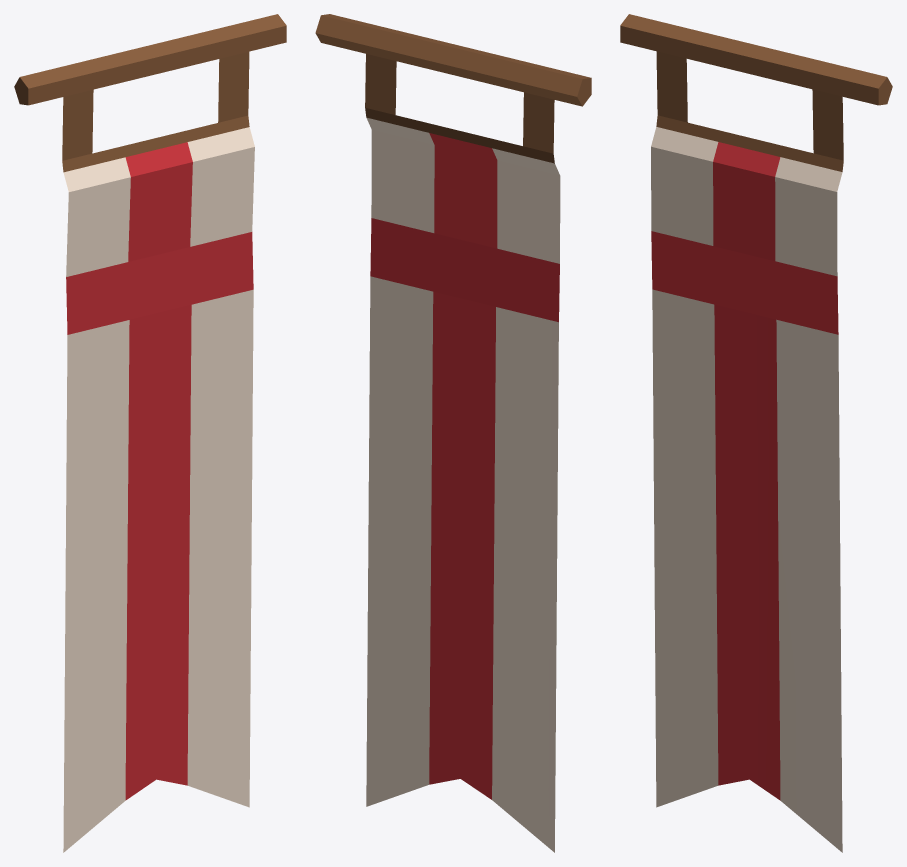
The model's file is flag-medieval-big.glb.
The picture shows the model from 3 angles, left to right: view 1: azimuth 30°, elevation 25°; view 2: azimuth 150°, elevation 25°; view 3: azimuth 330°, elevation 25°; orthographic projection.
Visible parts, largest first — view 1: flag-medieval_big; view 2: flag-medieval_big; view 3: flag-medieval_big.
Boxes of the visible parts, left/top/right/bottom form: flag-medieval_big: left=14, top=14, right=286, bottom=852; flag-medieval_big: left=315, top=14, right=591, bottom=852; flag-medieval_big: left=620, top=14, right=892, bottom=852.
Bounding box in the file's own units: 1.19 × 3.43 × 0.1519.
Materials: 1 (1 with a texture image).
